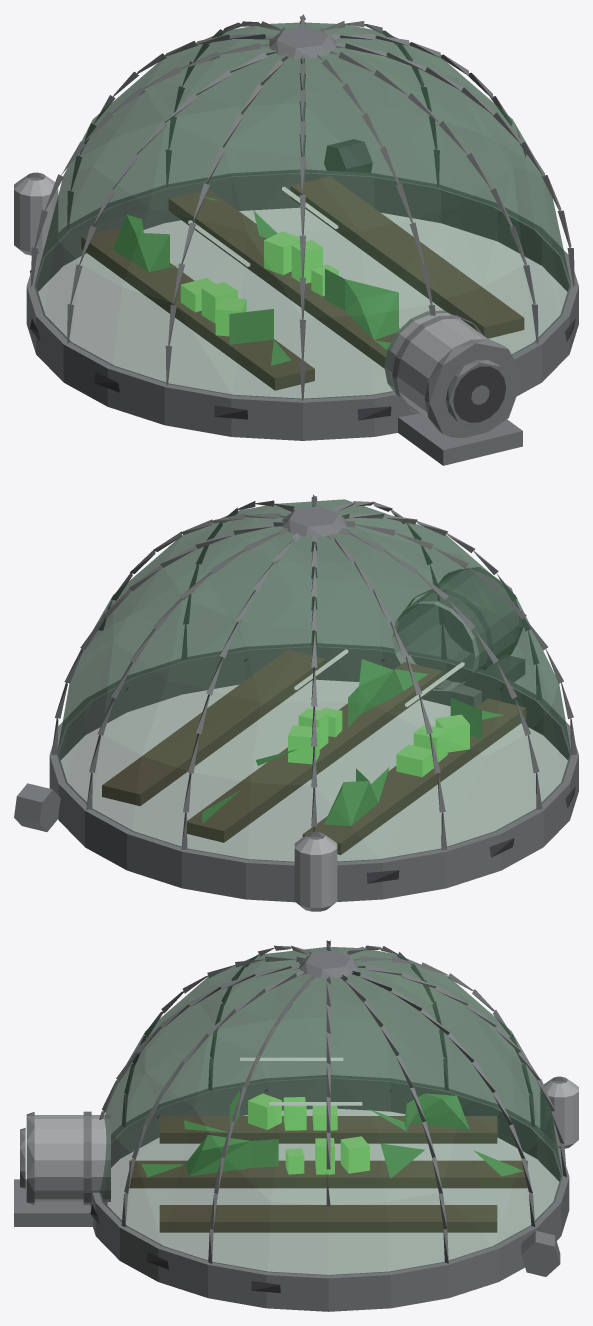
File: greenhouse-dome-lod1.glb
3 views of the same model, one above another, from view 1: azimuth 30°, elevation 25°; view 2: azimuth 150°, elevation 25°; view 3: azimuth 270°, elevation 25° (orthographic). The views are drawn at different scales.
Bounding box in the file's own units: 14.4 × 8.25 × 16.89.
